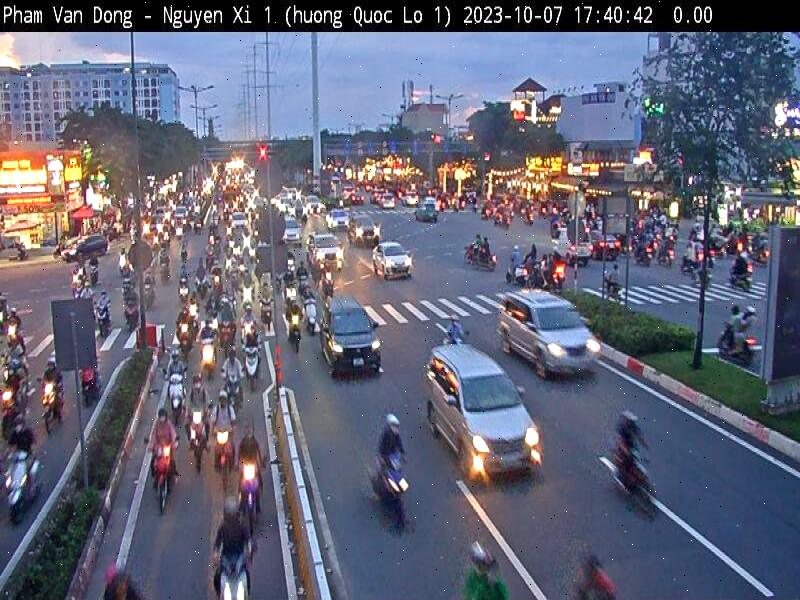car: (422, 342, 544, 492), (495, 288, 603, 386), (316, 296, 391, 375), (371, 241, 418, 281), (305, 231, 348, 271)
motorcycle: (602, 433, 664, 527), (366, 446, 420, 531), (5, 449, 44, 528), (207, 548, 263, 600), (150, 437, 179, 518), (236, 455, 262, 542), (40, 381, 70, 436), (186, 406, 210, 474), (214, 423, 234, 494), (162, 369, 187, 424)
